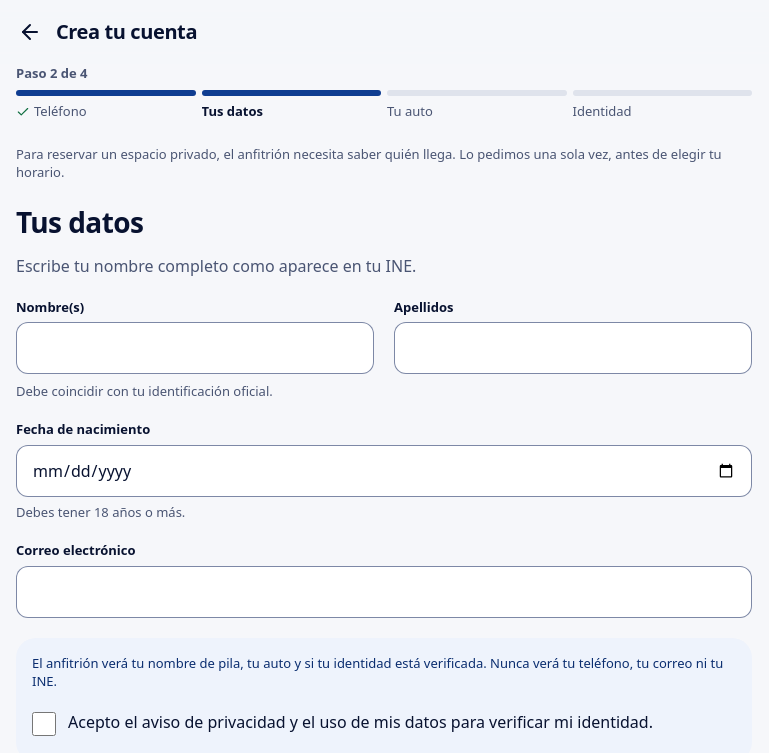
creating an account › refuses someone under 18 and says why
Type "Ana" into the field labelled "Nombre(s)". click: [195, 348]
box: [32,322,358,374]
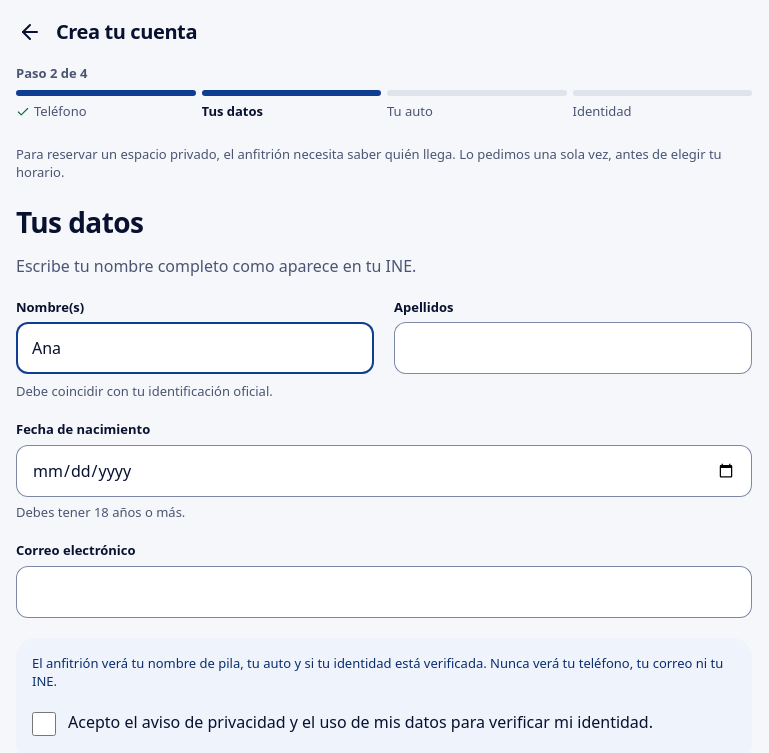
Type "López García" into the field labelled "Apellidos". click: [573, 348]
box: [410,322,736,374]
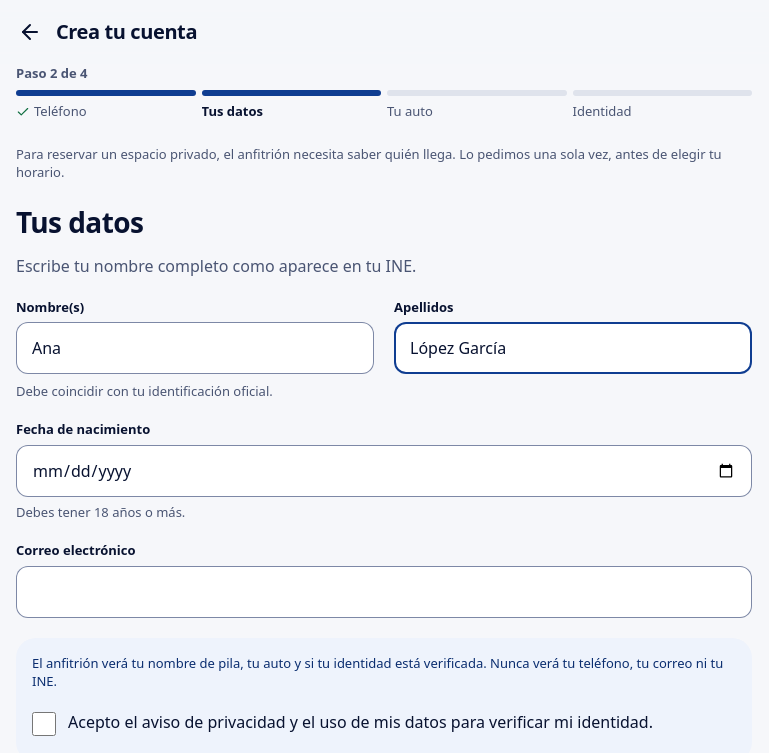
Type "2015-01-01" into the date field labelled "Fecha de nacimiento". click: [384, 471]
box: [32,445,736,497]
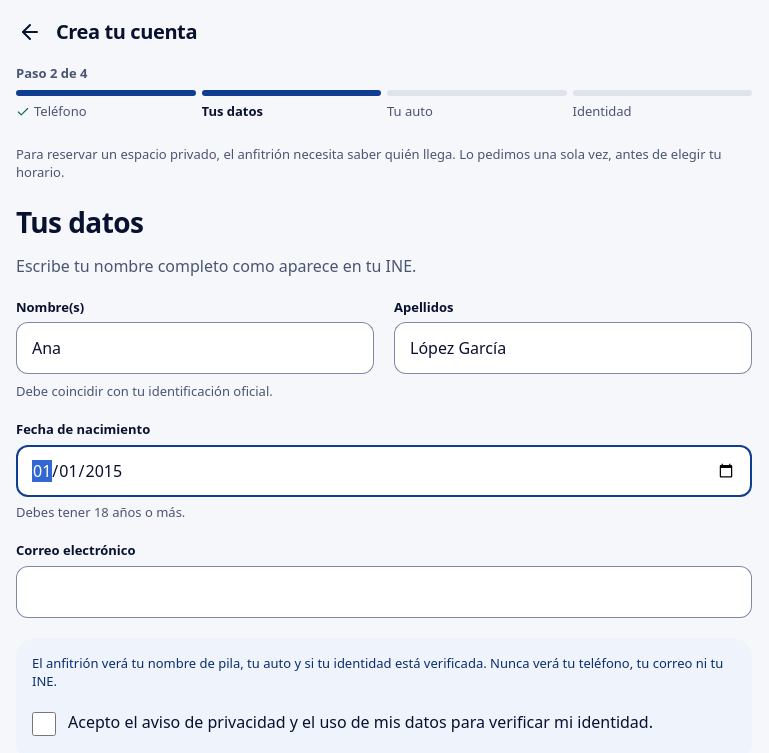
Type "ana@example.com" into the field labelled "Correo electrónico". click: [384, 592]
box: [32,566,736,618]
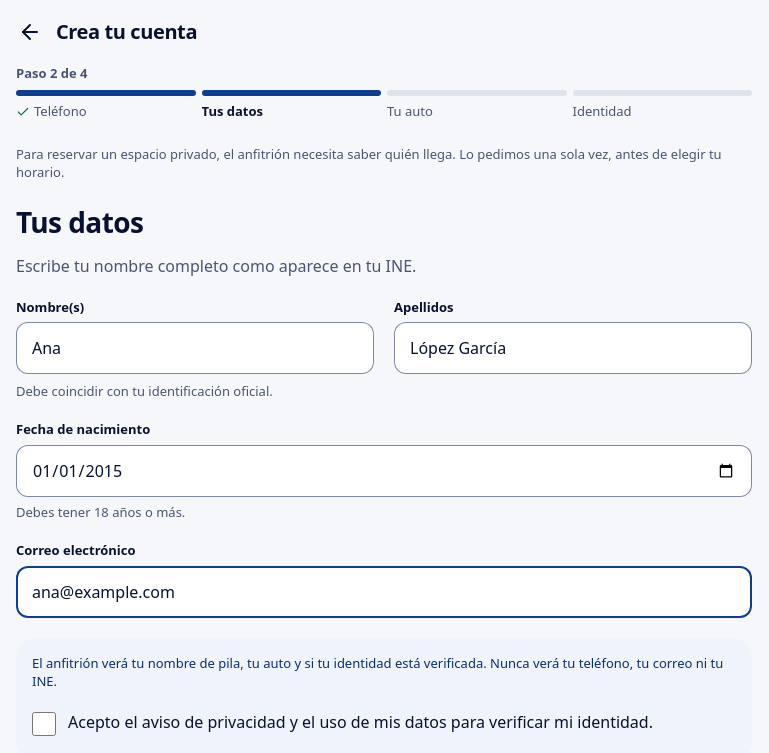
Click the checkbox labelled "Acepto el aviso de privacidad". click: [44, 724]
box: [32,712,56,736]
(page scrolled)
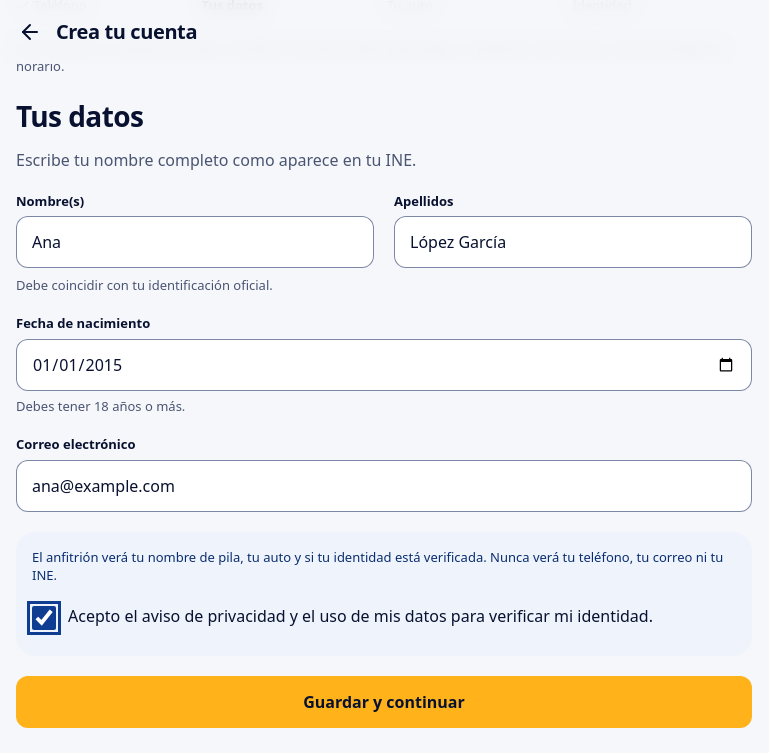
Click the button "Guardar y continuar". click: [384, 702]
box: [16,676,752,728]
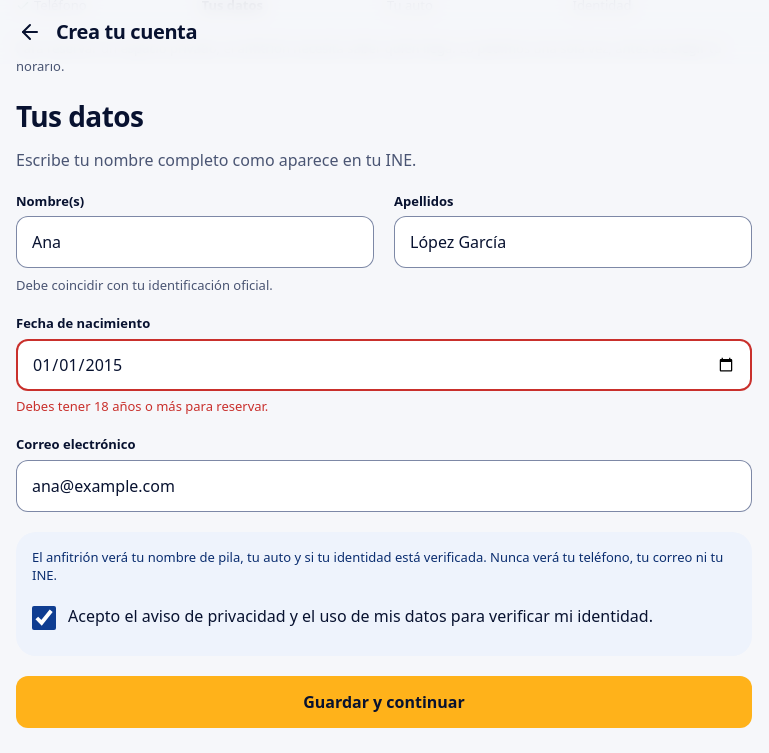
Result: the message shows "Debes tener 18 años o más" at [16,397,268,415]
